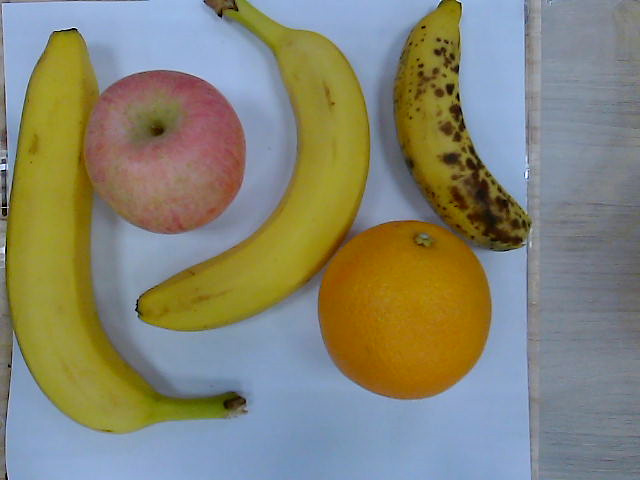fresh_apple: (83, 69, 246, 234)
fresh_banana: (141, 2, 368, 333), (6, 27, 164, 435)
fresh_orange: (317, 220, 493, 400)
rotten_banana: (392, 1, 533, 253)
